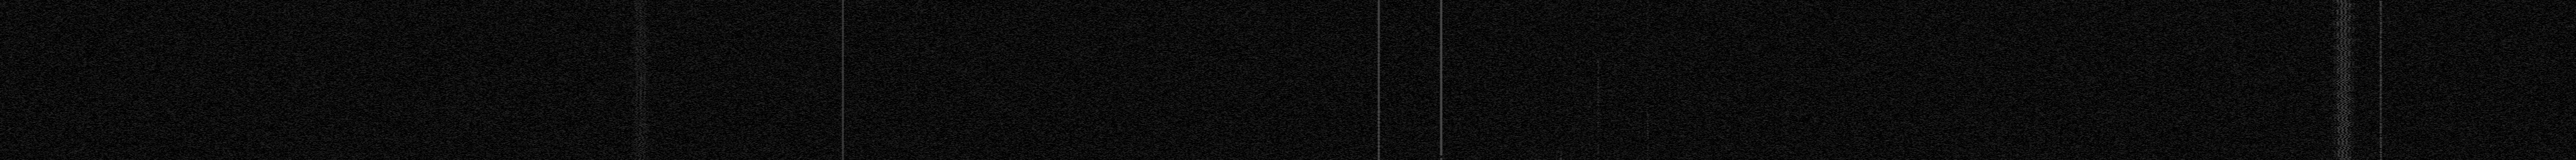wv_am: (841, 0, 844, 160), (1377, 0, 1380, 160)
wv_cw: (1439, 0, 1442, 155), (1439, 158, 1442, 160)
wv_lsb: (1597, 59, 1600, 107), (1597, 107, 1600, 144), (1646, 111, 1649, 144), (1646, 12, 1649, 38), (1646, 74, 1649, 91), (1646, 147, 1649, 160), (1597, 144, 1600, 155), (1646, 45, 1649, 54), (1597, 13, 1600, 20), (1597, 3, 1600, 10), (1646, 2, 1649, 7), (1646, 144, 1649, 147), (1646, 56, 1649, 59), (1646, 7, 1649, 10), (1597, 157, 1600, 160), (1646, 68, 1648, 73), (1646, 63, 1648, 68), (1597, 45, 1598, 48), (1597, 40, 1598, 43), (1597, 35, 1598, 38), (1597, 21, 1598, 25), (1646, 96, 1648, 99), (1646, 92, 1649, 94), (1597, 53, 1598, 56), (1597, 26, 1598, 28), (1597, 56, 1598, 58)
wv_usb: (2379, 0, 2382, 160), (1559, 150, 1562, 160), (1559, 142, 1562, 147), (1559, 134, 1562, 137), (1559, 127, 1562, 130), (1559, 120, 1562, 124), (1559, 114, 1562, 117), (1559, 10, 1562, 13), (1559, 3, 1562, 7), (1559, 107, 1562, 109), (1559, 101, 1562, 102), (1559, 97, 1562, 99), (1559, 87, 1562, 89)
wv_wbfm: (2328, 0, 2359, 160), (628, 0, 652, 160)
